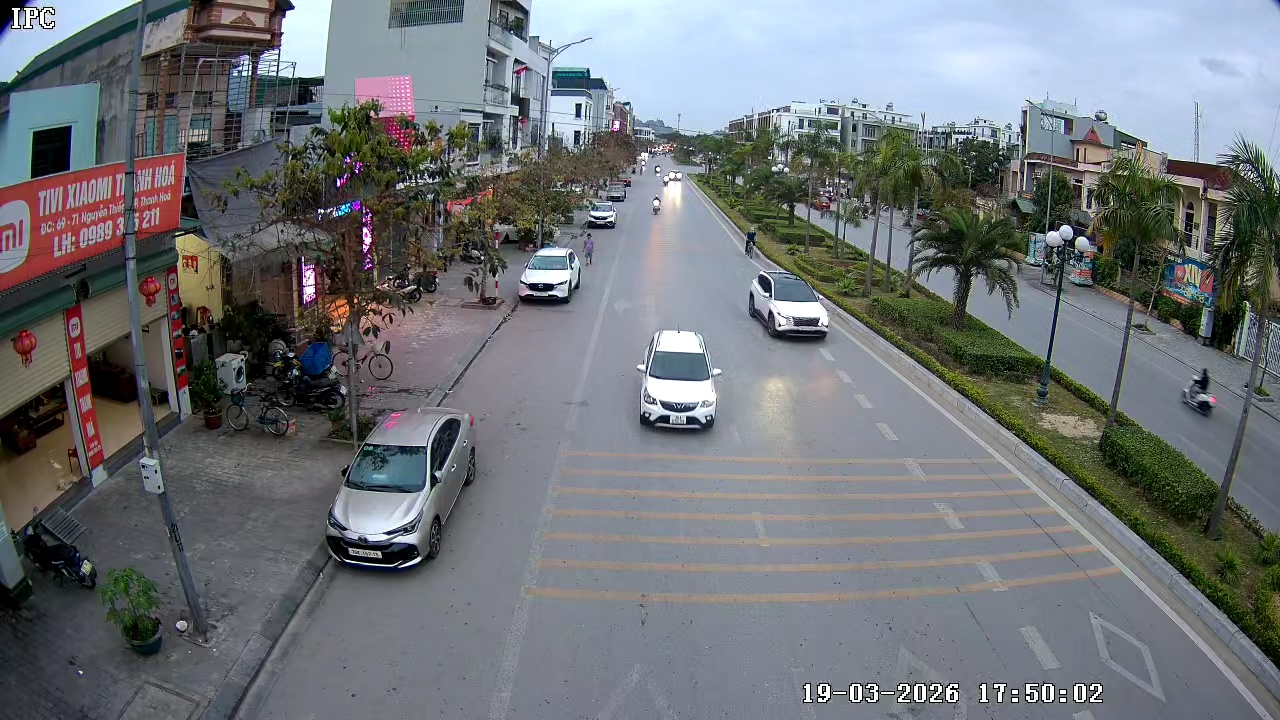bike: (360, 328, 396, 382)
car: (324, 405, 478, 572), (635, 329, 723, 431), (747, 269, 831, 339), (518, 245, 583, 304), (582, 199, 620, 230), (669, 169, 683, 185)
motorbike: (1180, 365, 1218, 418), (650, 181, 665, 216), (741, 227, 758, 257), (582, 230, 595, 267)
